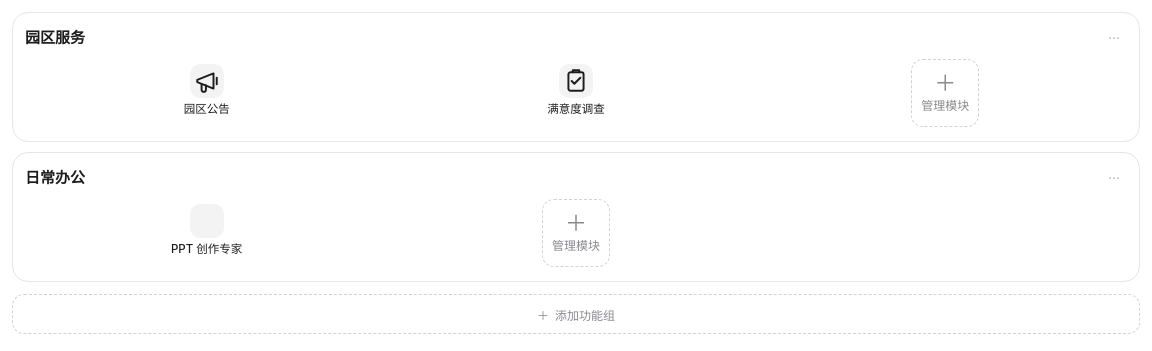
Test case: ModuleWorkspace drag reorder contract › keeps the minimal edit controls for reduced-motion users
This screenshot has width=1152, height=351.
Click the button named "功能组菜单：园区服务": (1114, 38) [1101,25,1127,51]
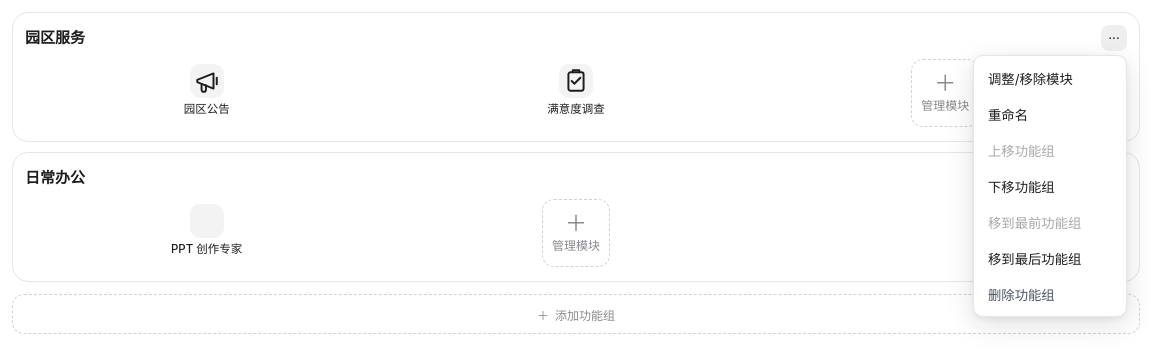
Click the menu item "调整/移除模块": (1050, 78) [979,61,1121,95]
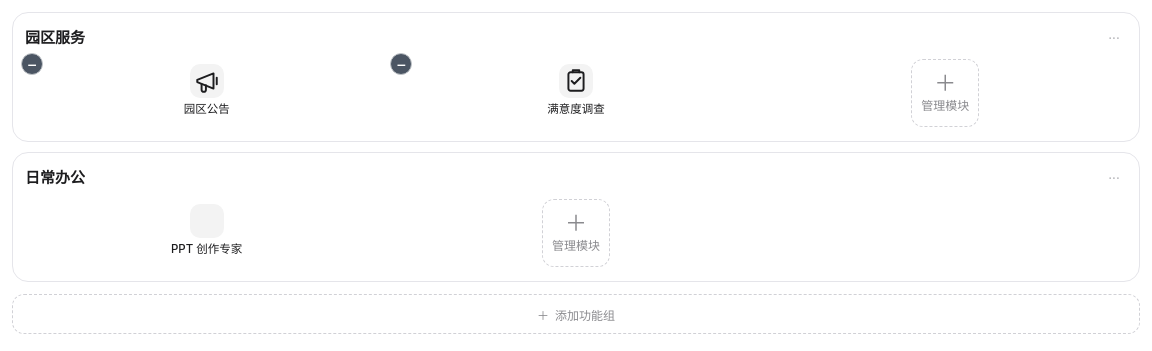
Check: the button named "移除 园区公告" is shown, box [21,53,43,75]
